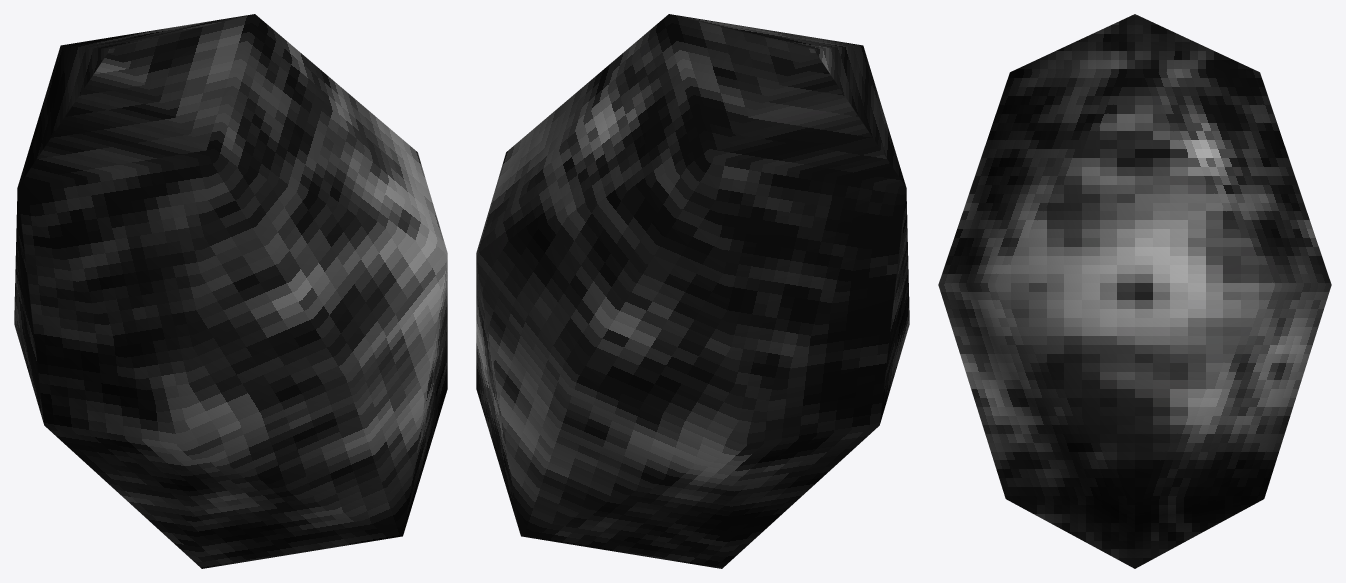
Rendered from BlackBean.fbx.
3 views of the same model, side by side, from view 1: azimuth 30°, elevation 25°; view 2: azimuth 150°, elevation 25°; view 3: azimuth 270°, elevation 25° (orthographic). The views are drawn at different scales.
Visible parts, largest first — view 1: material_0; view 2: material_0; view 3: material_0.
Boxes of the visible parts, box(x1,y1,x2,y2) form: material_0: box(14, 14, 447, 568); material_0: box(476, 14, 909, 568); material_0: box(938, 14, 1331, 568).
Bounding box in the file's own units: 979 × 1200 × 938.
